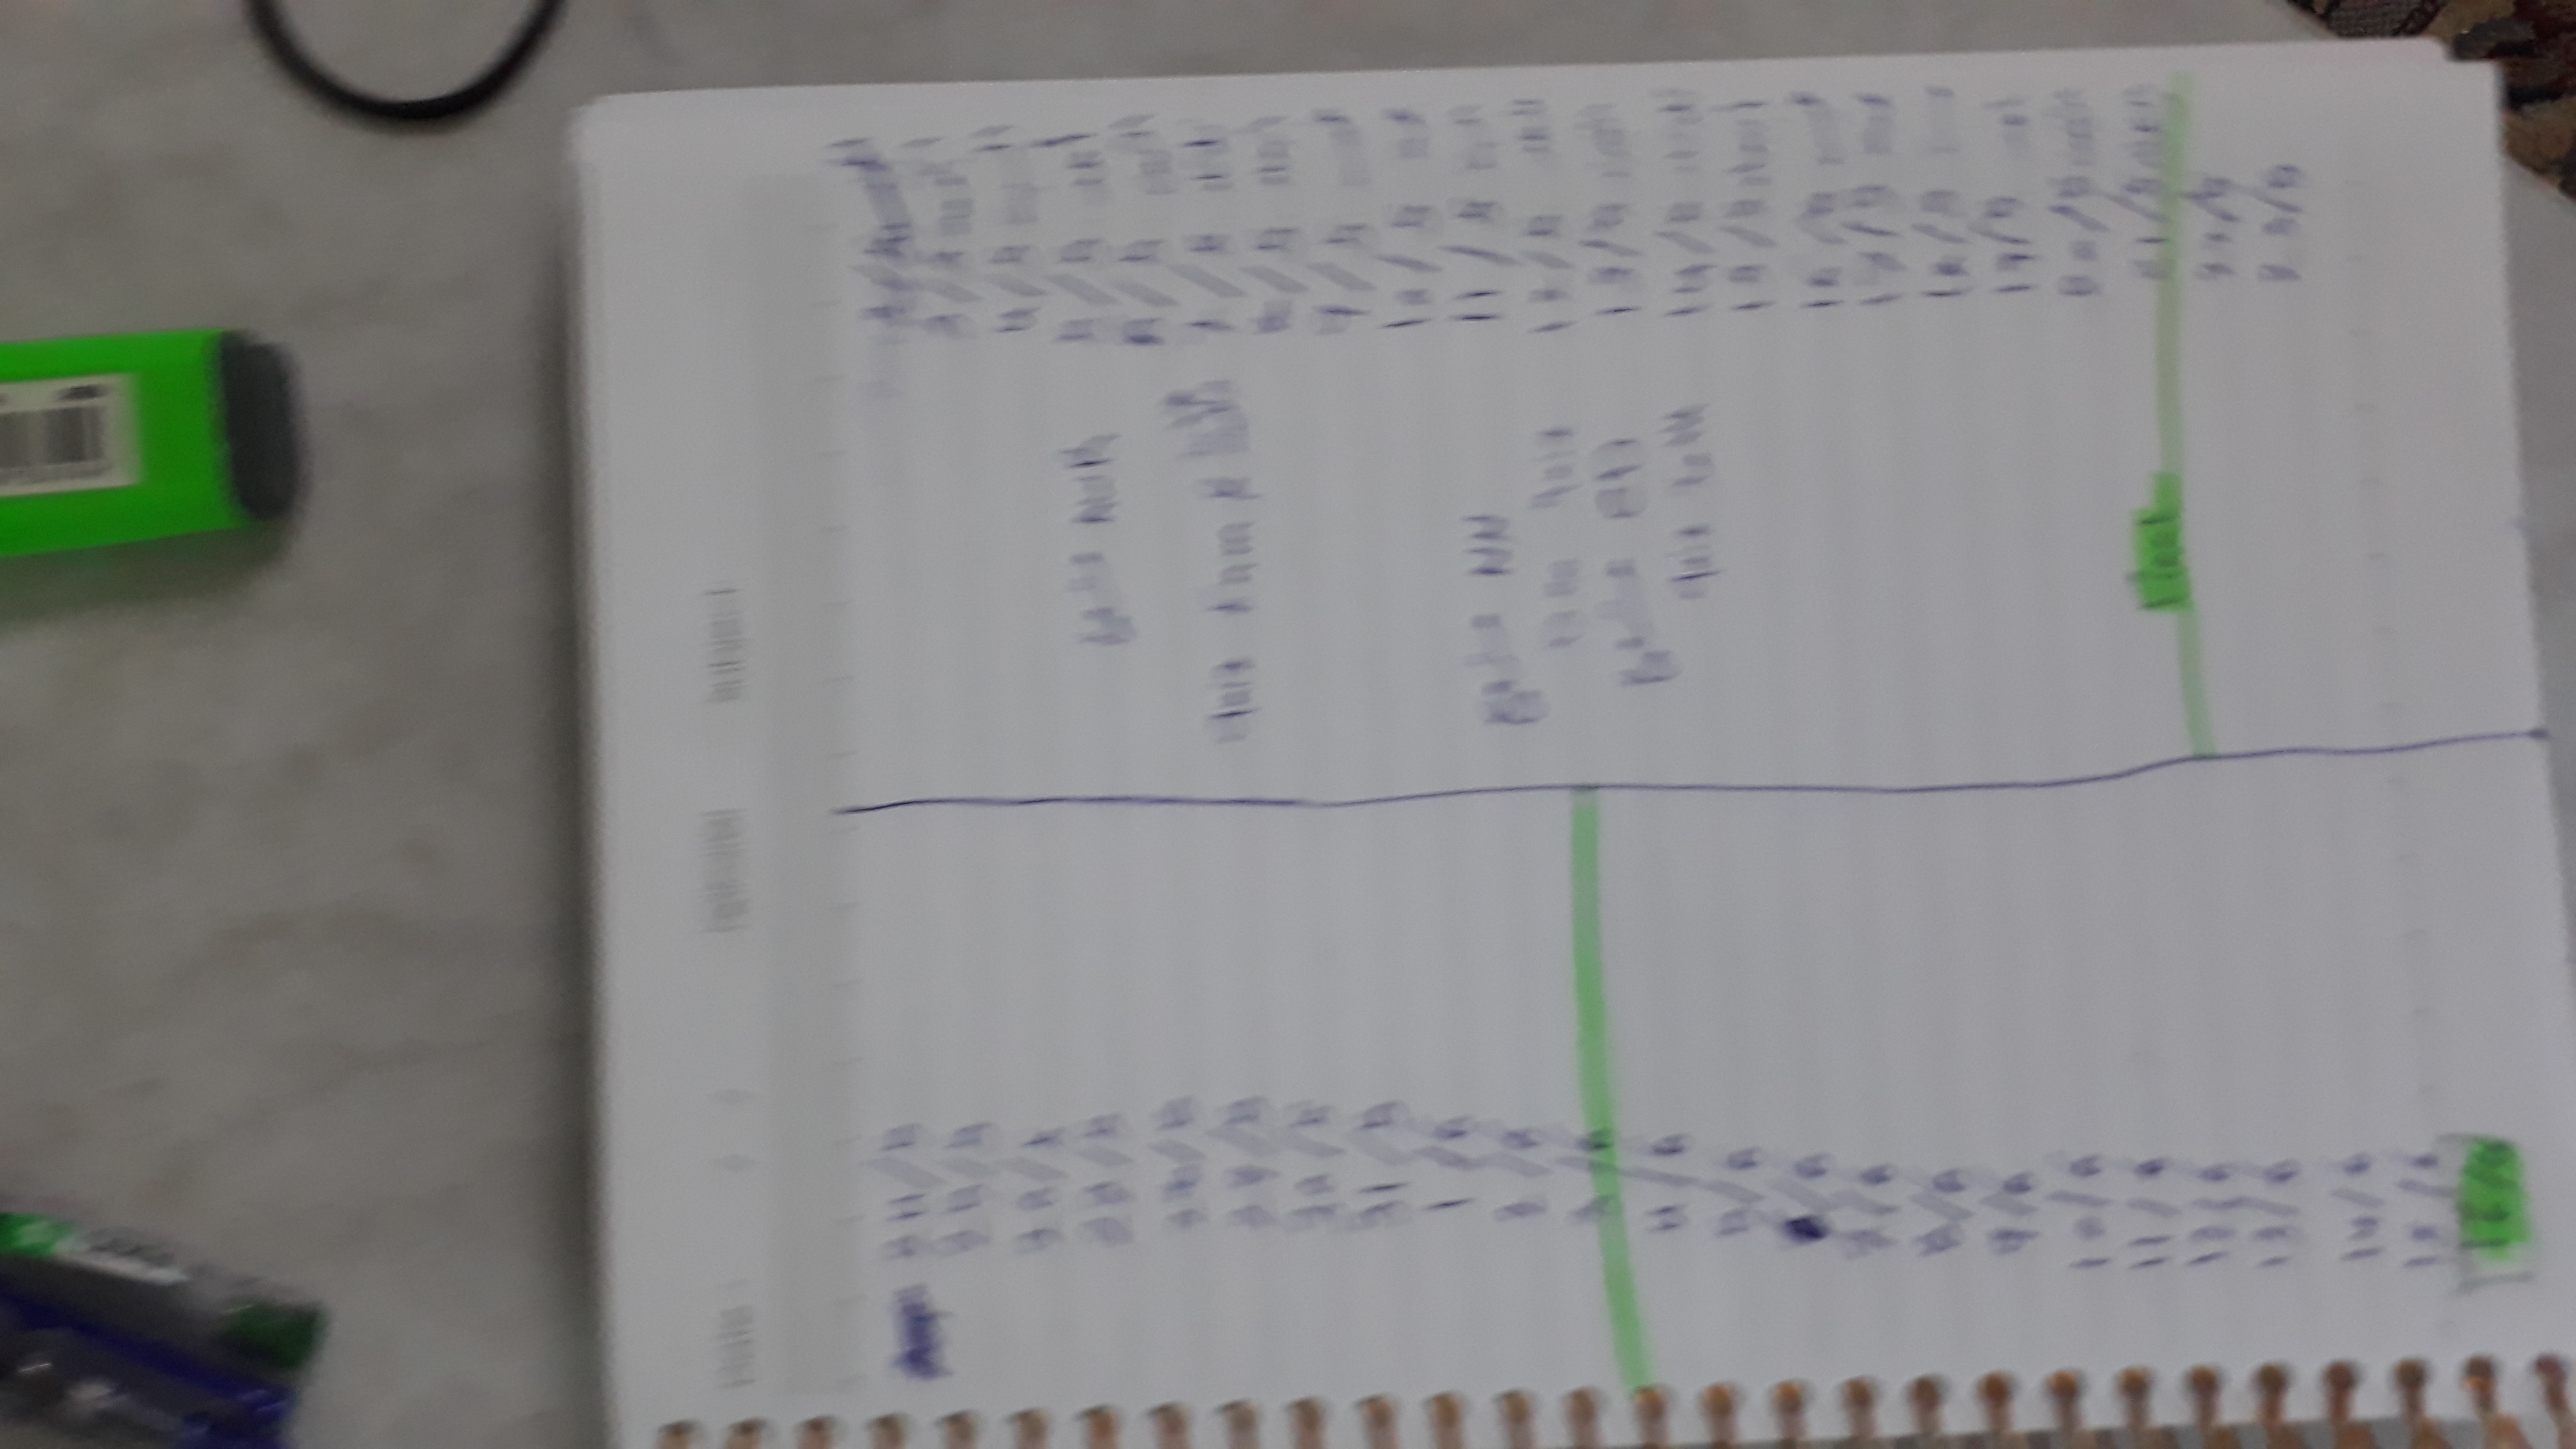dftar: (594, 32, 2555, 1442)
